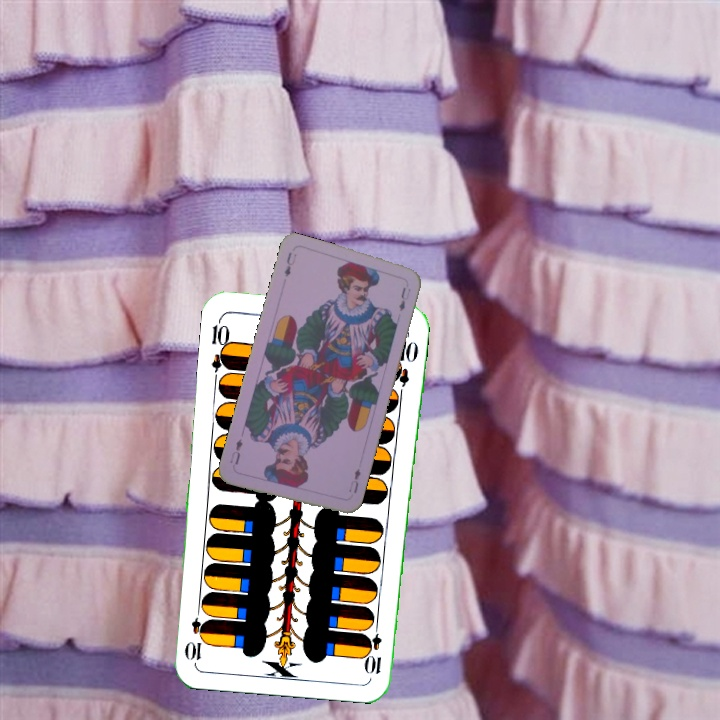E10: (207, 314, 233, 373), (365, 618, 384, 677)
EU: (280, 248, 299, 279), (345, 464, 363, 496)
